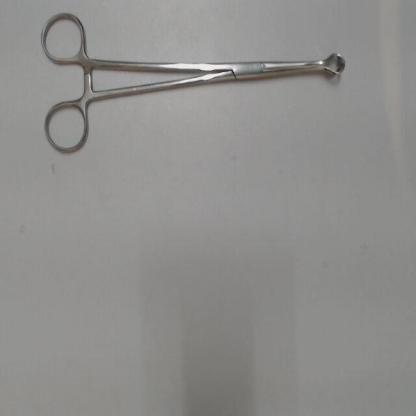8 Babcock Tissue Forceps: (37, 5, 349, 159)
